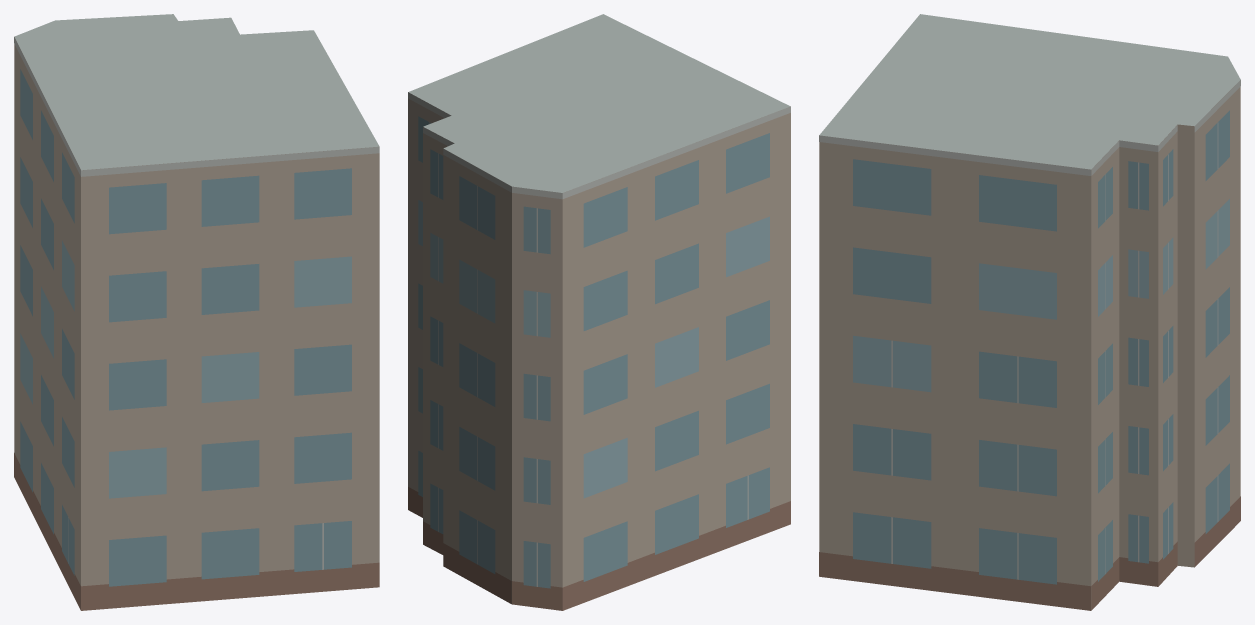
File: survey-upis-32795994.glb
3 views of the same model, side by side, from view 1: azimuth 30°, elevation 25°; view 2: azimuth 150°, elevation 25°; view 3: azimuth 270°, elevation 25° (orthographic). The views are drawn at different scales.
Parts seen in each view (by area): view 1: survey-upis-32795994.tmp; view 2: survey-upis-32795994.tmp; view 3: survey-upis-32795994.tmp.
Boxes of the visible parts, x1,y1,x2,y2 form: survey-upis-32795994.tmp: (14, 14, 379, 610); survey-upis-32795994.tmp: (408, 14, 790, 610); survey-upis-32795994.tmp: (819, 14, 1240, 610).
Bounding box in the file's own units: 12.29 × 16.25 × 14.08.
